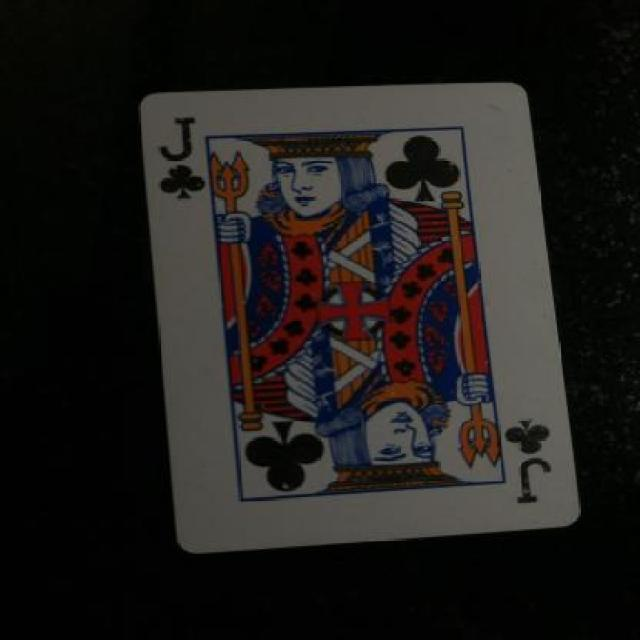JC: (148, 106, 217, 214), (504, 408, 568, 510)
